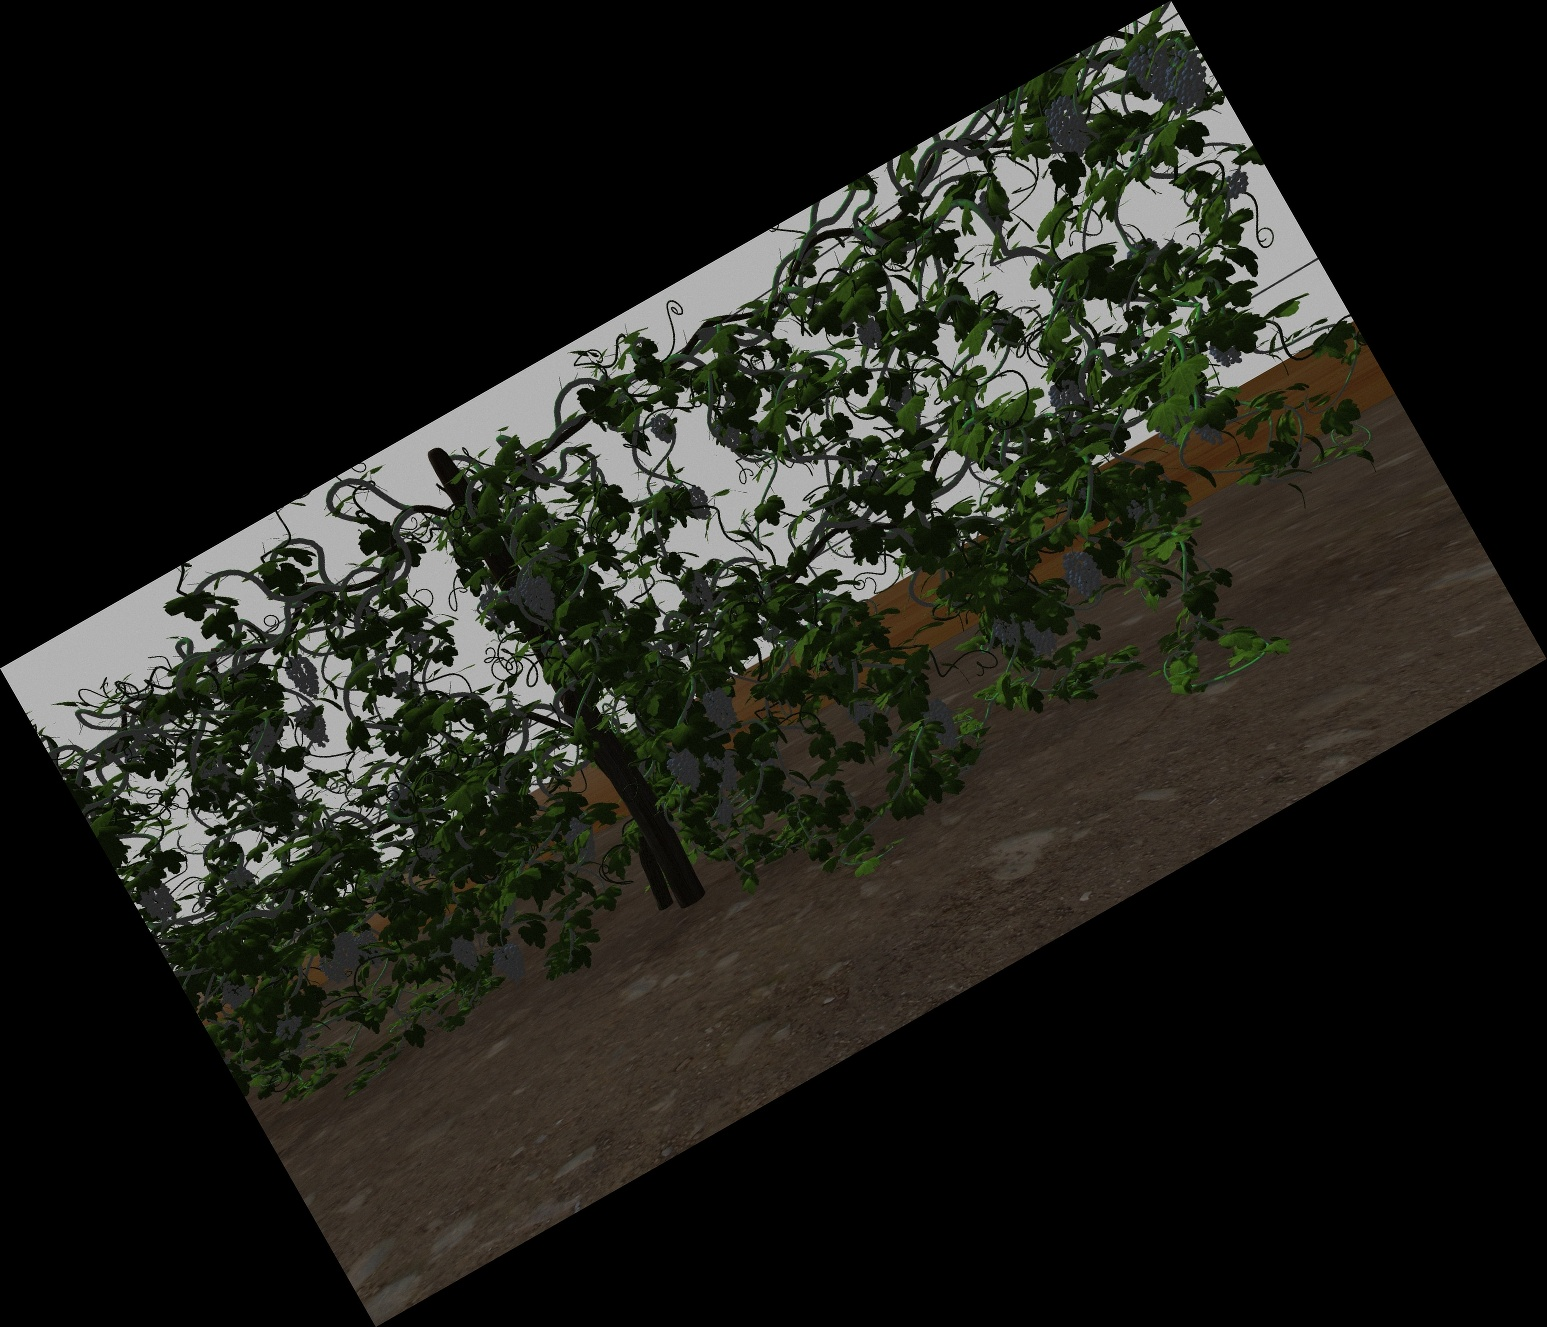grape: (1050, 99, 1087, 157), (1169, 54, 1208, 109), (1134, 46, 1171, 99), (929, 701, 959, 752), (1069, 550, 1100, 598), (708, 690, 735, 733), (526, 577, 554, 619), (291, 656, 318, 697), (300, 708, 328, 748), (496, 942, 524, 982), (1052, 383, 1083, 420), (145, 885, 174, 923), (570, 818, 595, 861), (672, 750, 699, 790), (1027, 615, 1052, 656), (710, 750, 735, 790), (685, 573, 712, 612), (249, 725, 278, 758), (685, 488, 710, 521), (1213, 337, 1239, 367), (335, 934, 358, 969), (222, 980, 251, 1006), (455, 938, 478, 971), (362, 932, 381, 967), (859, 320, 883, 347), (997, 617, 1019, 646), (1225, 171, 1250, 196), (652, 416, 675, 443), (275, 1018, 301, 1039), (324, 955, 341, 982), (716, 804, 734, 823)
